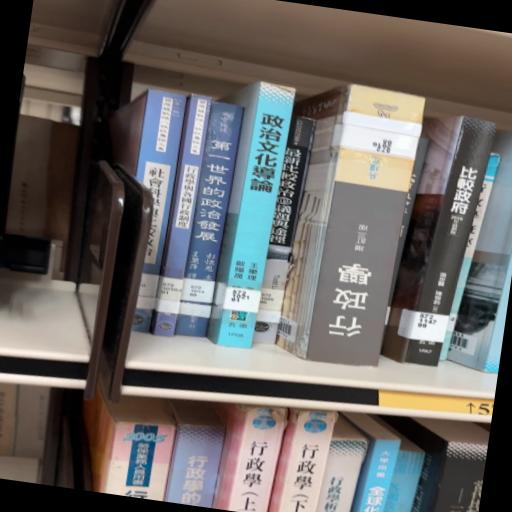reverse: (278, 86, 425, 367)
